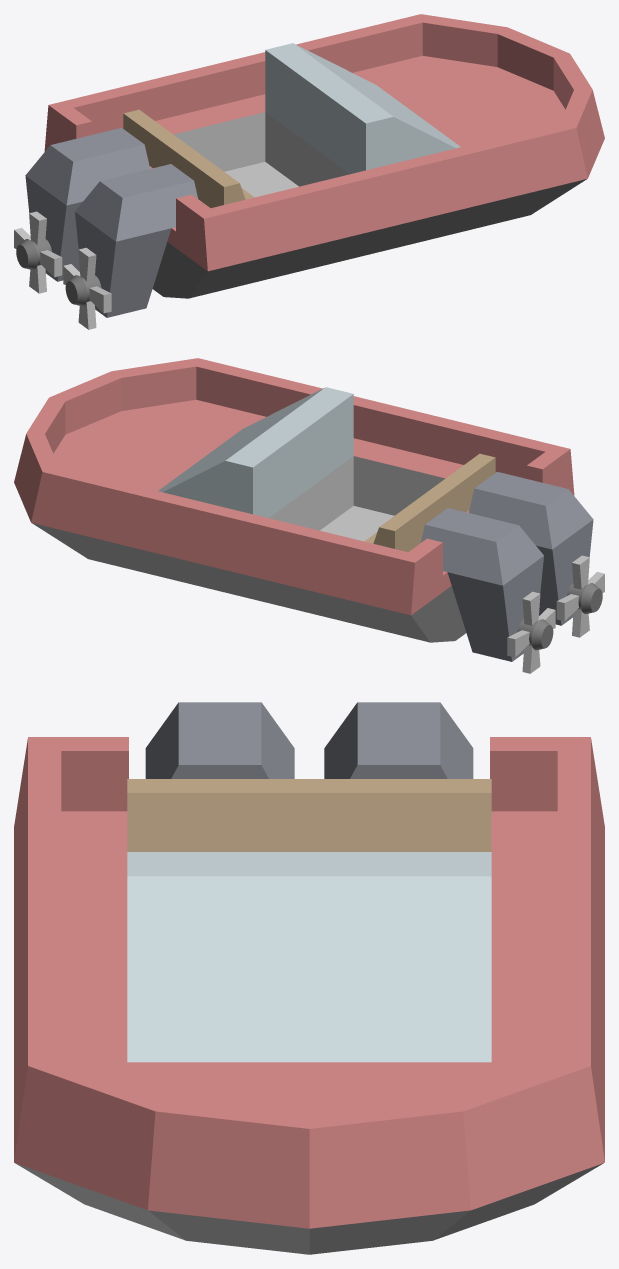
Rendered from BoatOpen.fbx.
3 renders of one model, top to bottom at view 1: azimuth 30°, elevation 25°; view 2: azimuth 150°, elevation 25°; view 3: azimuth 270°, elevation 25°, orthographic. The views are drawn at different scales.
Parts seen in each view (by area): view 1: watercraftPack_012:polySurface1; view 2: watercraftPack_012:polySurface1; view 3: watercraftPack_012:polySurface1.
Part boxes in pixels (x1=…): watercraftPack_012:polySurface1: x1=14, y1=14, x2=604, y2=329; watercraftPack_012:polySurface1: x1=14, y1=358, x2=604, y2=673; watercraftPack_012:polySurface1: x1=14, y1=702, x2=604, y2=1254.
Bounding box in the file's own units: 3.37 × 0.9571 × 1.78.
